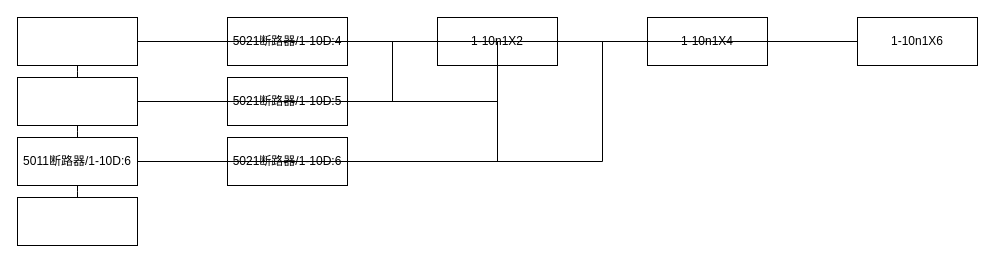
The diagram is 995 pixels wide and 263 high, and some of its shapes have lost their labels. Each missing label, with the centre of its shape:
5011断路器/1-10D:4: (x=77, y=41)
5011断路器/1-10D:5: (x=77, y=101)
5011断路器/1-10D:7: (x=77, y=221)
